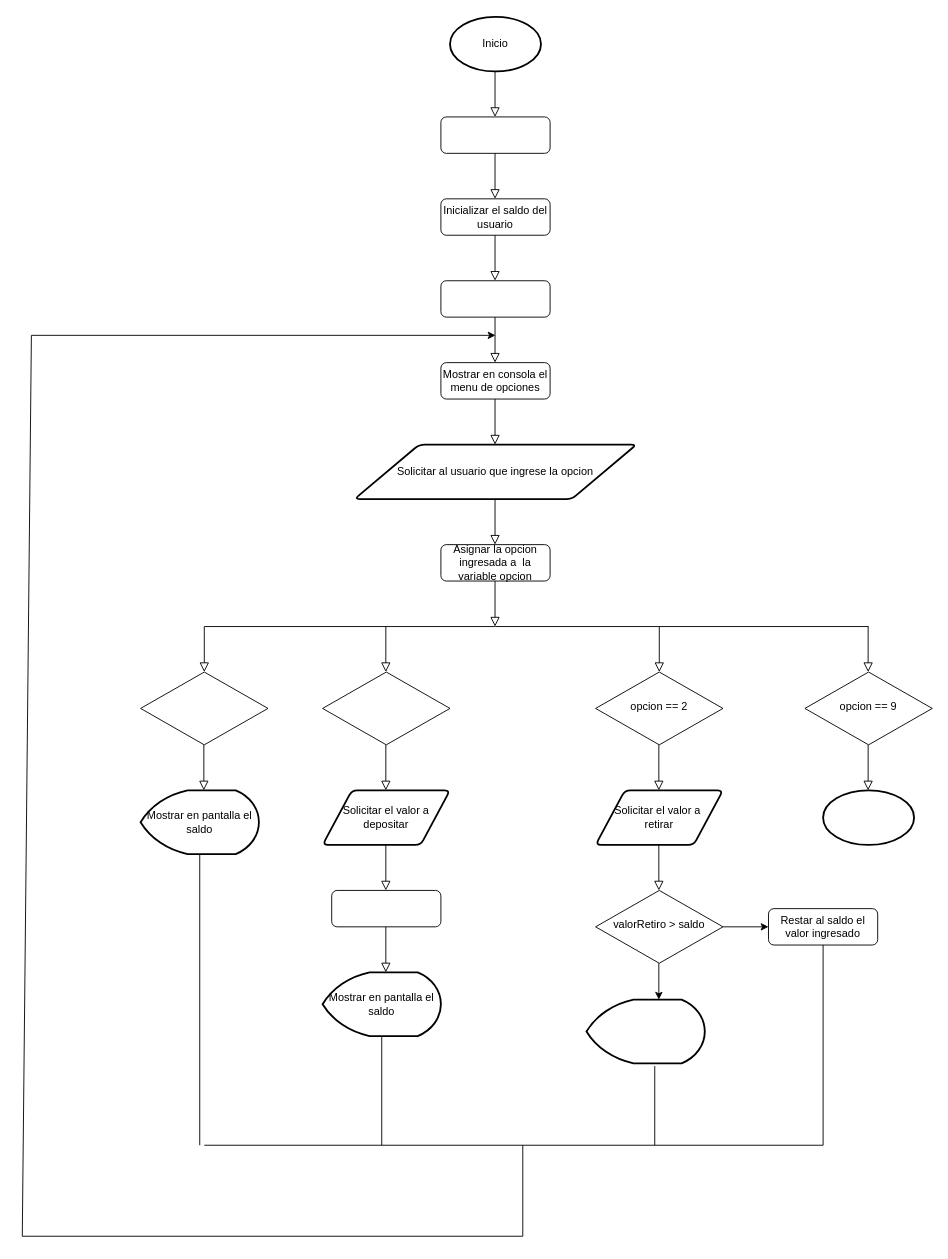
The diagram is 948 pixels wide and 1259 high, and some of its shapes have lost their labels. Each missing label, with the centre of its shape:
Fin: (868,817)
Inicializar el nombre del usario: (495,134)
Inicializar el tipo de cuenta del usuario: (495,298)
Mostrar en pantalla que no se puede realizar la accion: (645,1031)
opcion == 1: (204,708)
opcion == 3: (386,708)
Sumar al saldo el valor depositado: (386,908)
